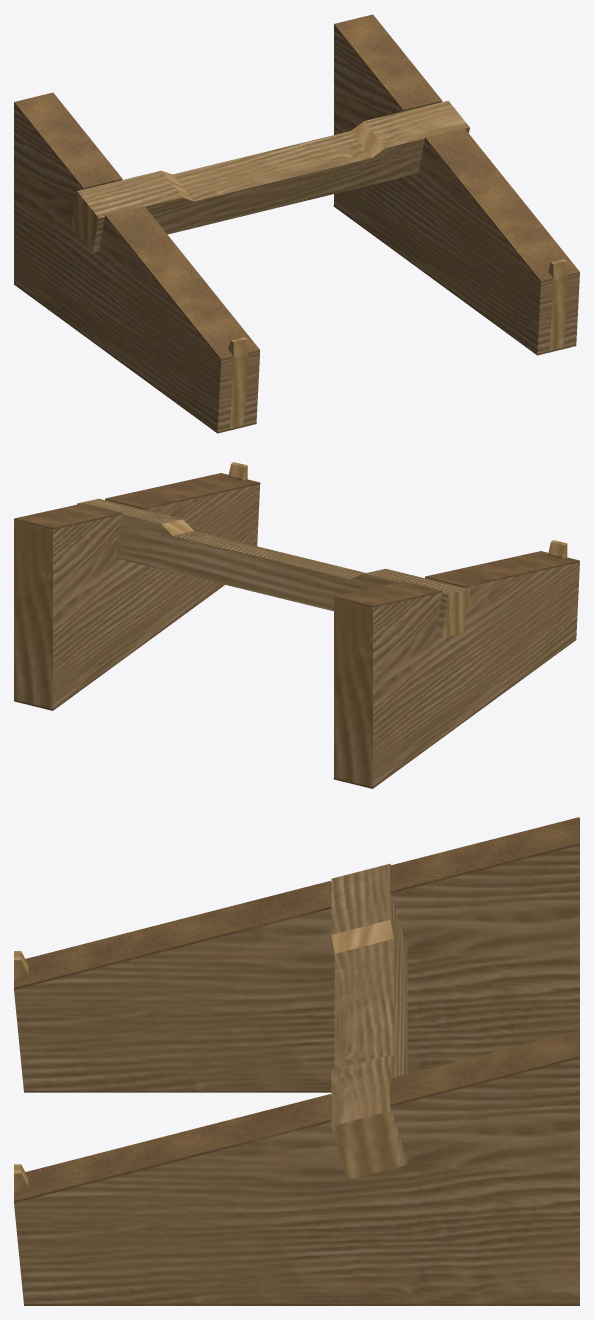
File: base-baja-de-laptop-apamate.glb
The picture shows the model from 3 angles, top to bottom: view 1: azimuth 30°, elevation 25°; view 2: azimuth 150°, elevation 25°; view 3: azimuth 270°, elevation 25°; orthographic projection. The views are drawn at different scales.
Bounding box in the file's own units: 0.238 × 0.112 × 0.23.
Materials: 3 (3 with a texture image).
